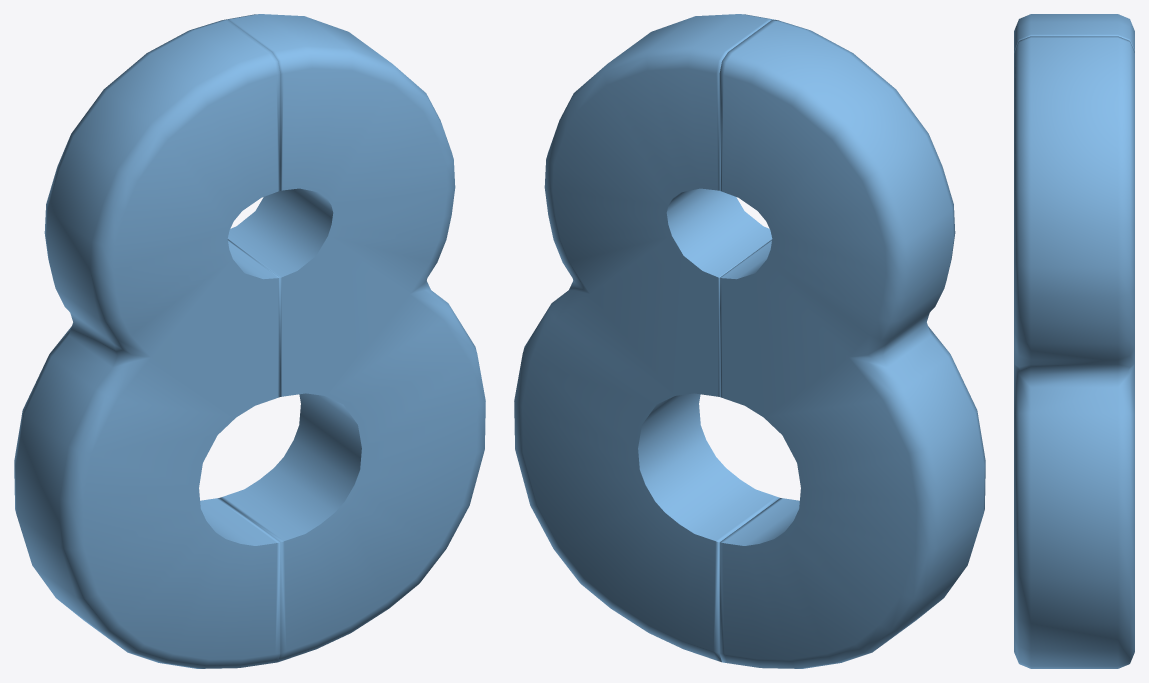
The model's file is SM_Number_01a.fbx.
3 renders of one model, left to right at view 1: azimuth 30°, elevation 25°; view 2: azimuth 150°, elevation 25°; view 3: azimuth 270°, elevation 25°, orthographic.
Visible parts, largest first — view 1: Number_02, Number_01; view 2: Number_02, Number_01; view 3: Number_01, Number_02.
Boxes of the visible parts, x1,y1,x2,y2 form: Number_02: (14, 20, 280, 668); Number_01: (220, 14, 485, 662); Number_02: (719, 20, 985, 668); Number_01: (514, 14, 779, 662); Number_01: (1014, 36, 1134, 668); Number_02: (1014, 14, 1134, 51).
Bounding box in the file's own units: 19.71 × 27.08 × 4.9.
